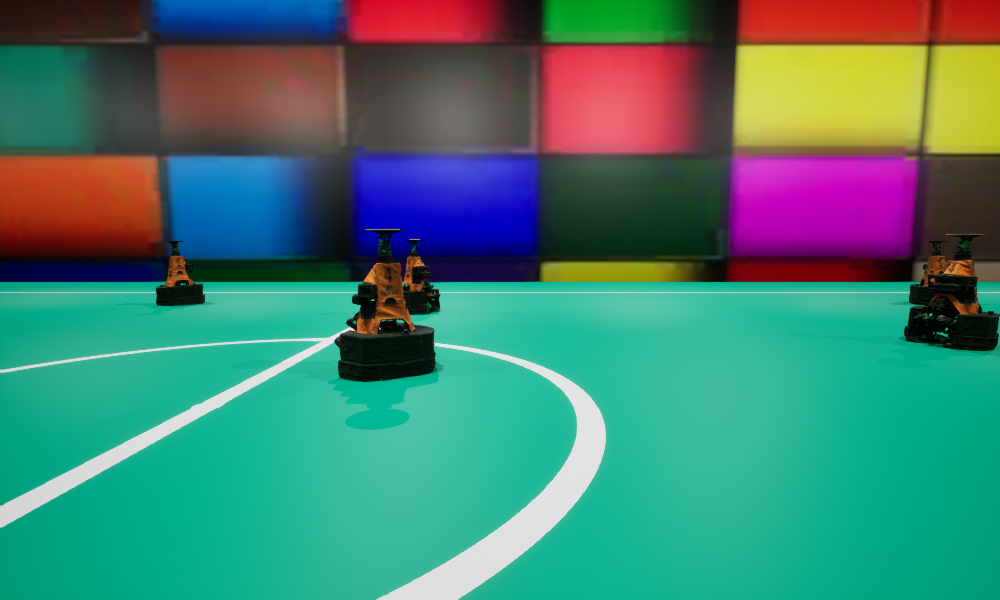0 orange robot TechUnited: (334, 229, 435, 380), (904, 233, 999, 349), (156, 241, 204, 305), (402, 239, 440, 314), (909, 241, 947, 305)
